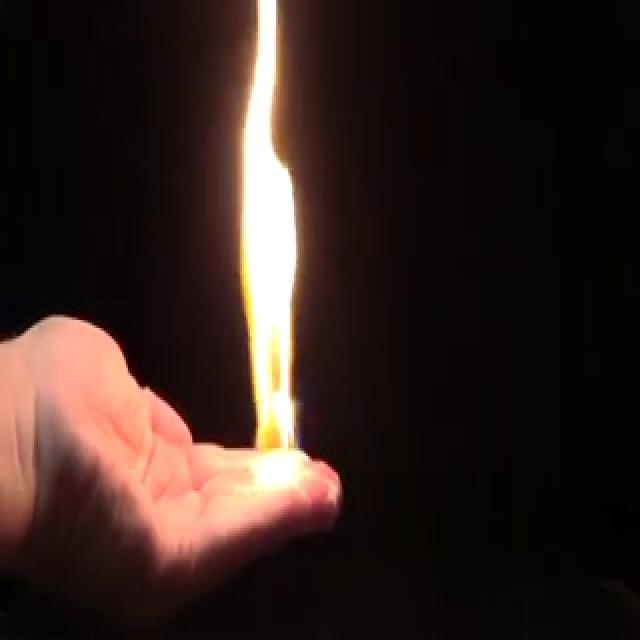fire: (216, 0, 312, 496)
